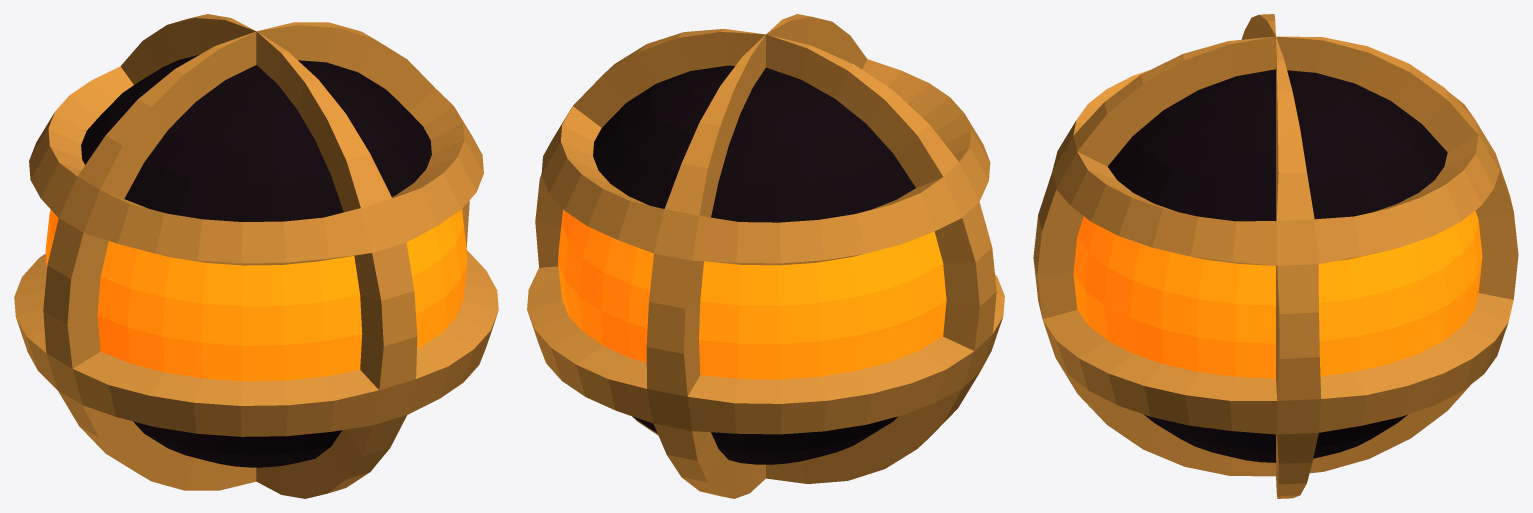
File: power core.fbx
The picture shows the model from 3 angles, left to right: view 1: azimuth 30°, elevation 25°; view 2: azimuth 150°, elevation 25°; view 3: azimuth 270°, elevation 25°; orthographic projection. The views are drawn at different scales.
Visible parts, largest first — view 1: Sphere; view 2: Sphere; view 3: Sphere.
Boxes of the visible parts, x1=… form: Sphere: x1=14, y1=14, x2=498, y2=498; Sphere: x1=527, y1=14, x2=1004, y2=498; Sphere: x1=1033, y1=14, x2=1518, y2=498.
Bounding box in the file's own units: 235 × 235 × 235.
